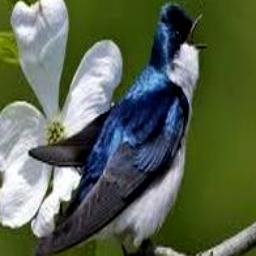Swallow: (29, 1, 208, 256)
